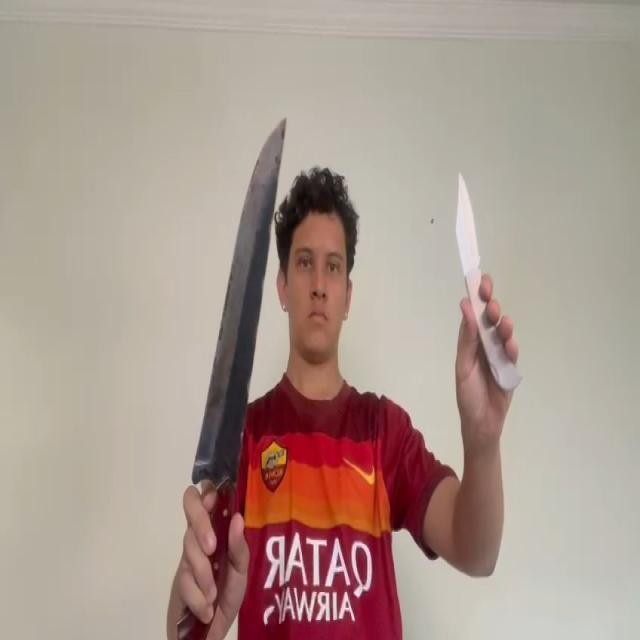knife: (191, 116, 288, 490), (455, 172, 482, 270)
